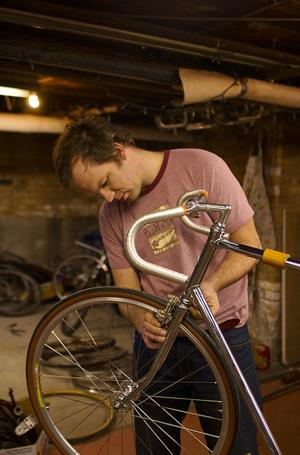person: (53, 109, 264, 455)
